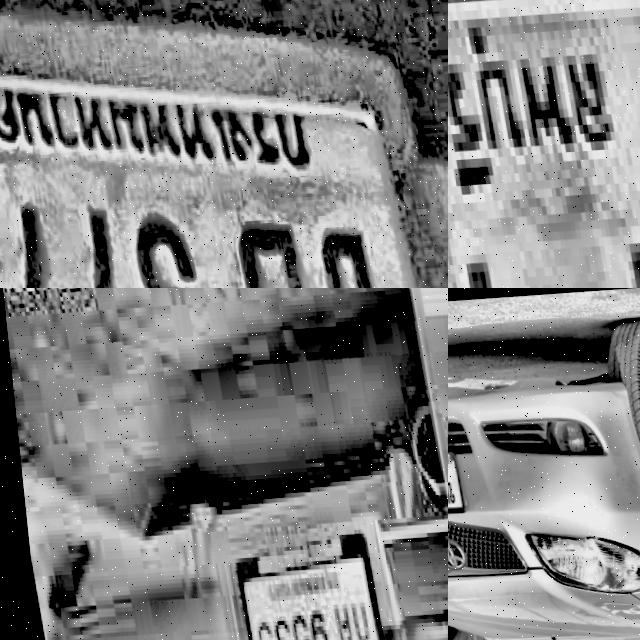license-plate: (0, 0, 448, 288), (448, 0, 640, 288), (211, 527, 386, 640)
